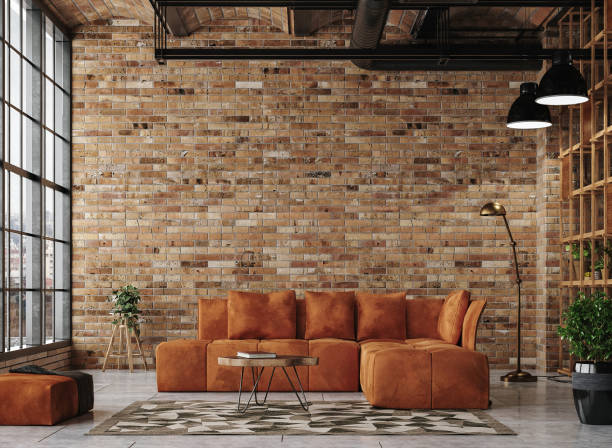chair: (0, 363, 96, 429)
floor lamp: (477, 196, 539, 386)
large plant: (558, 286, 612, 426)
small plant: (109, 284, 141, 334)
sofa: (152, 286, 491, 413)
table: (216, 352, 322, 413)
